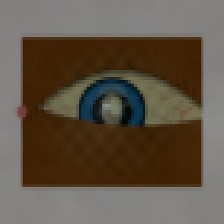corneal_ulcer: (85, 87, 140, 131)
